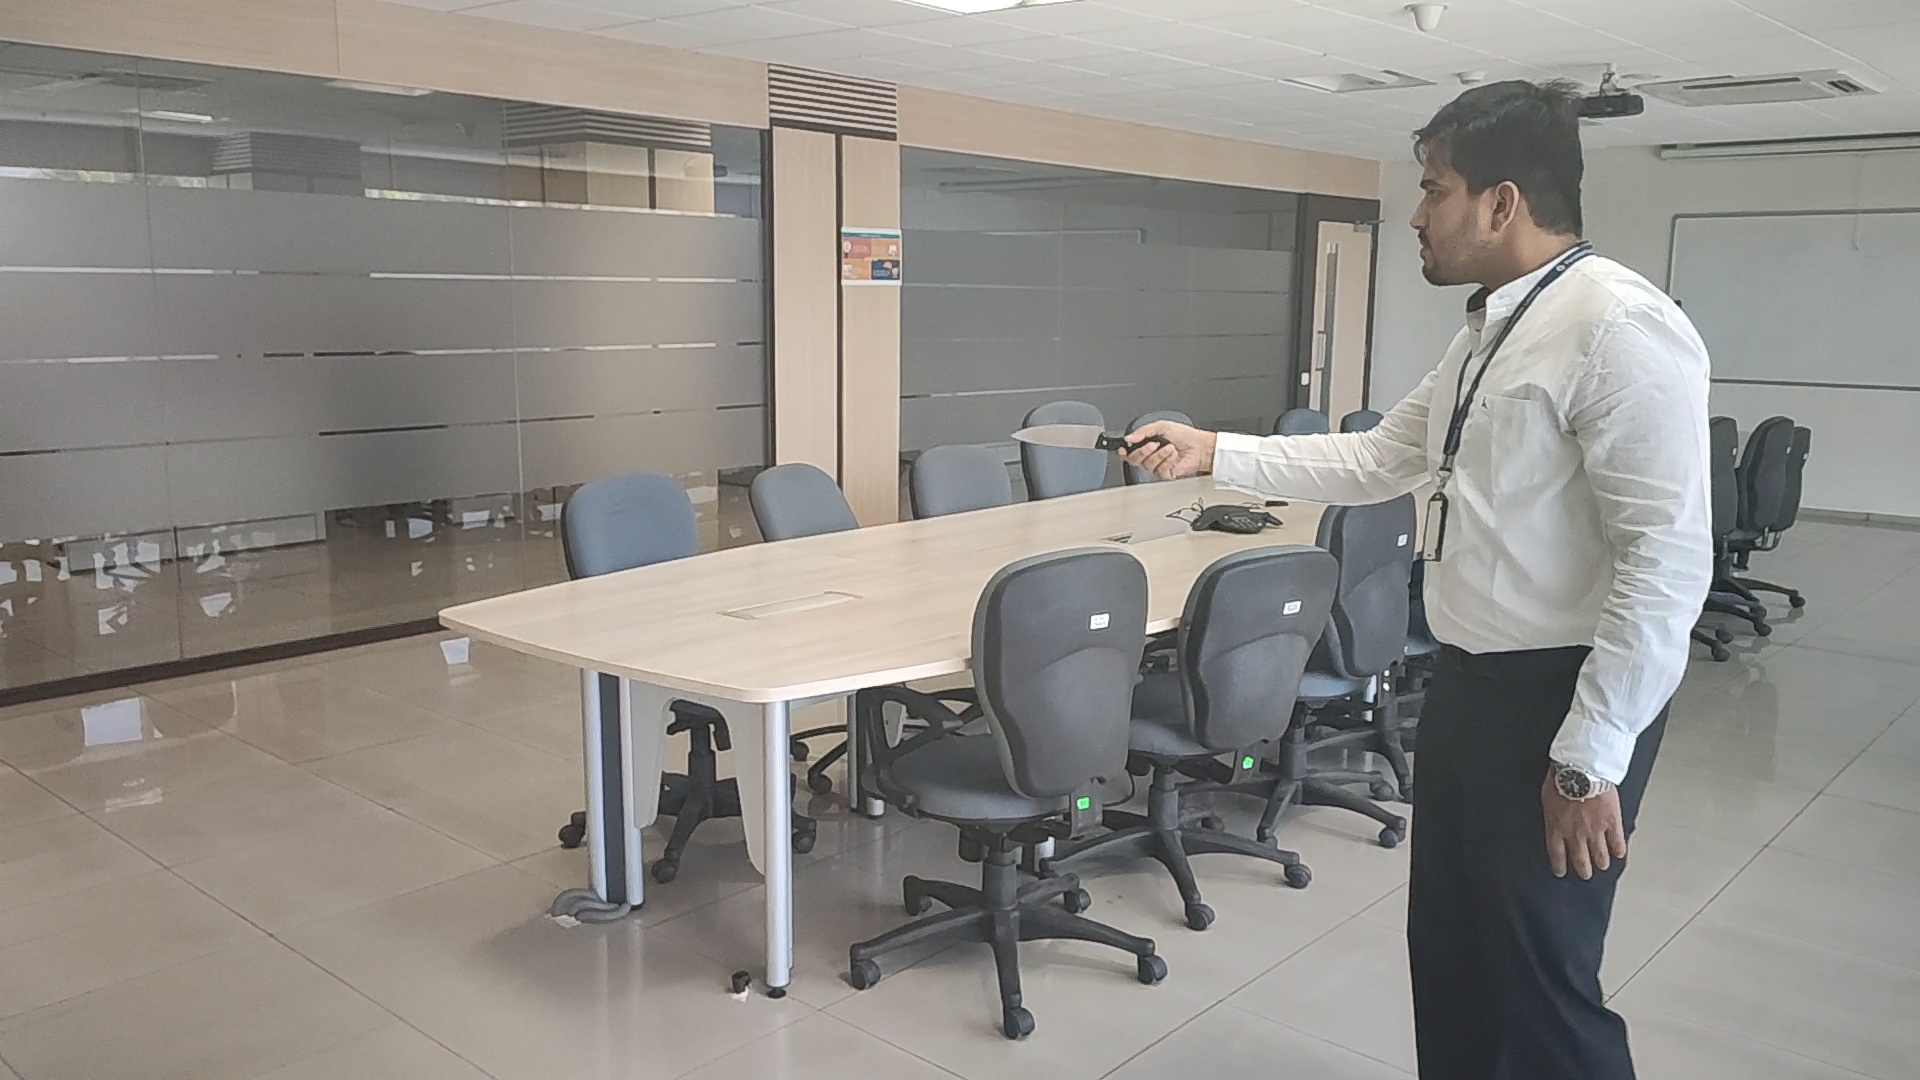knife: (1006, 423, 1133, 454)
